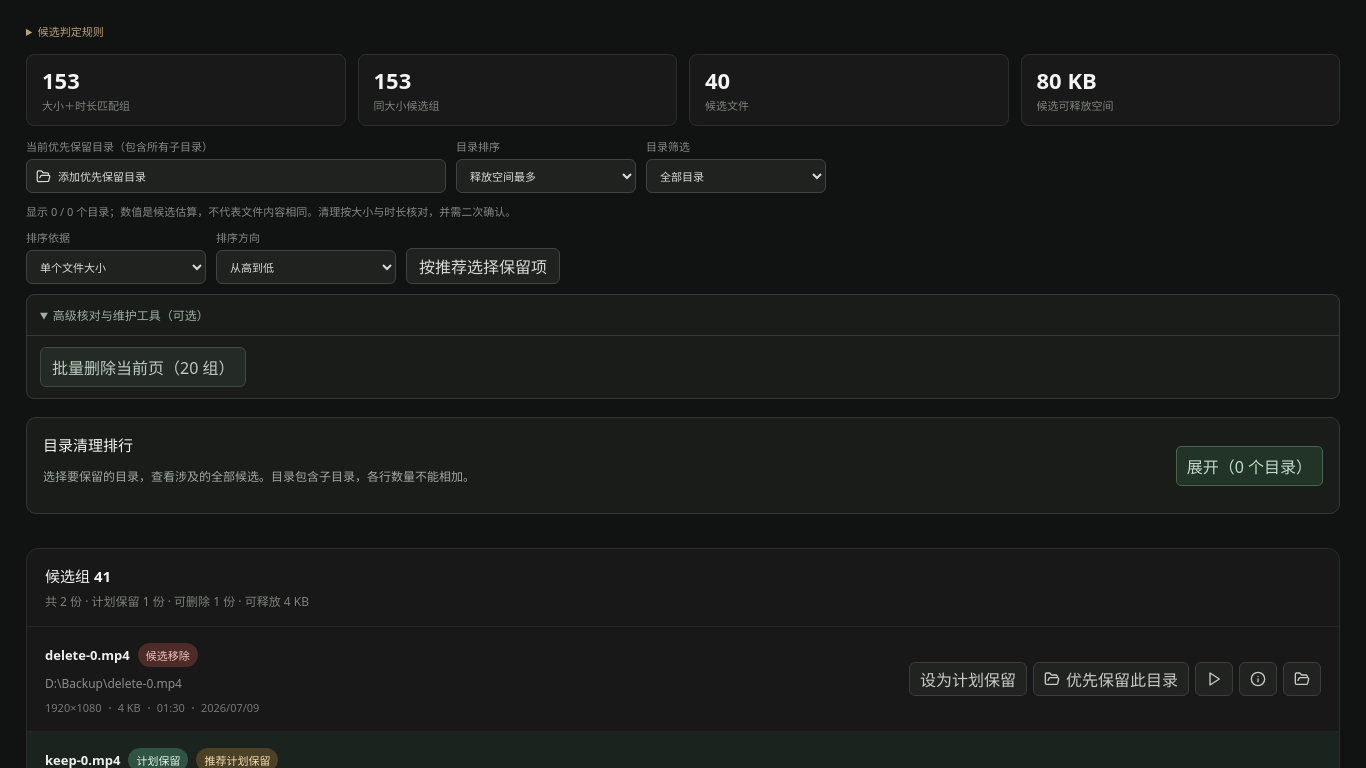
DuplicateGroupsPage staged safety flow › submits exactly the duplicate groups displayed on the current page
Click the button "批量删除当前页（20 组）" at (143,367), box left=40, top=347, right=246, bottom=387
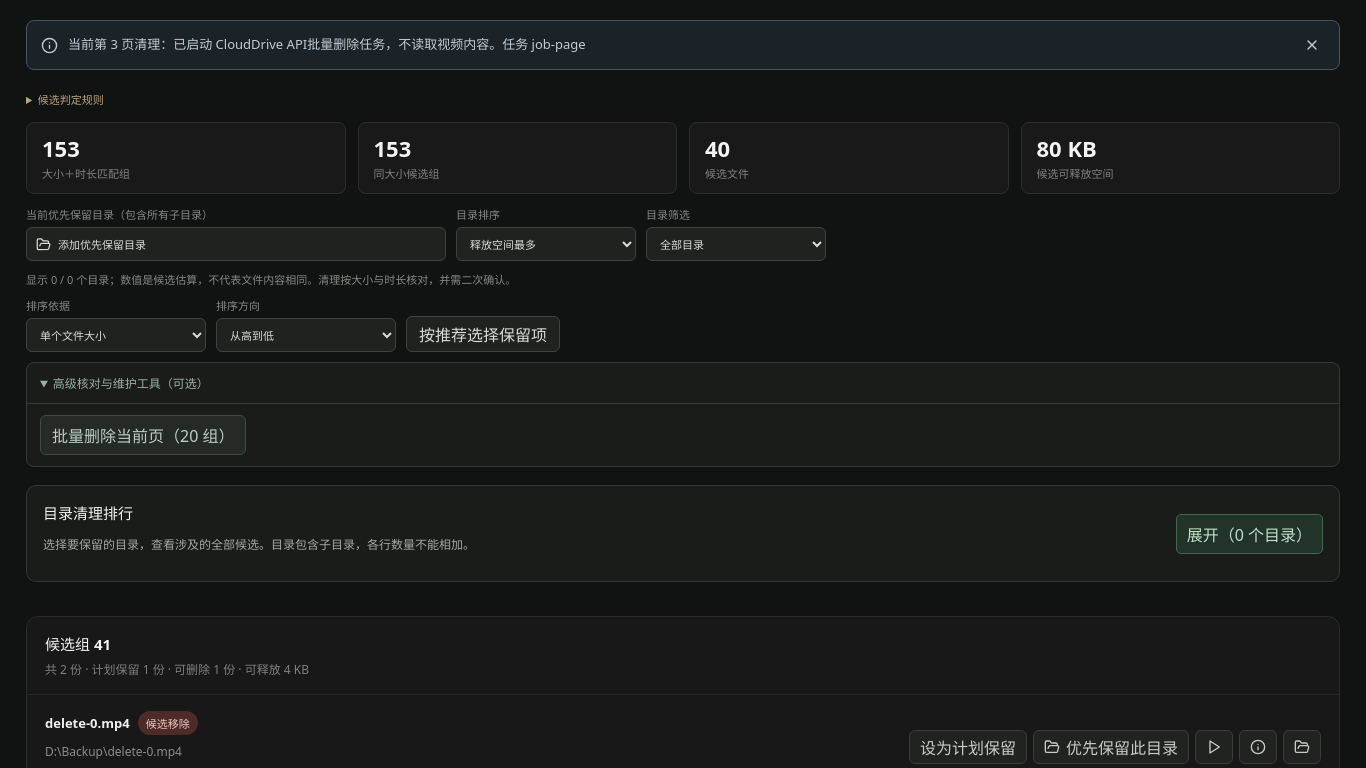
Now the message shows "当前第 3 页清理", box left=68, top=35, right=586, bottom=53
